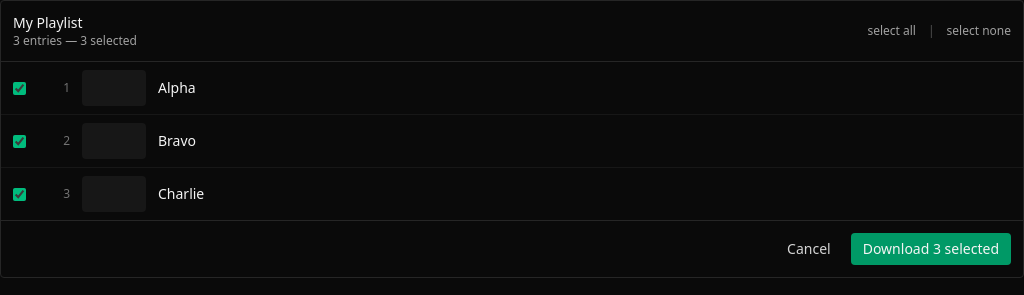
Test case: PreviewPanel › 'select none' disables the submit and 'select all' re-enables it
The width and height of the screenshot is (1024, 295).
What coordinates should you click on to do the following:
click the button "select none"
I would click on:
 (979, 31)
Its box is [946, 23, 1011, 39].
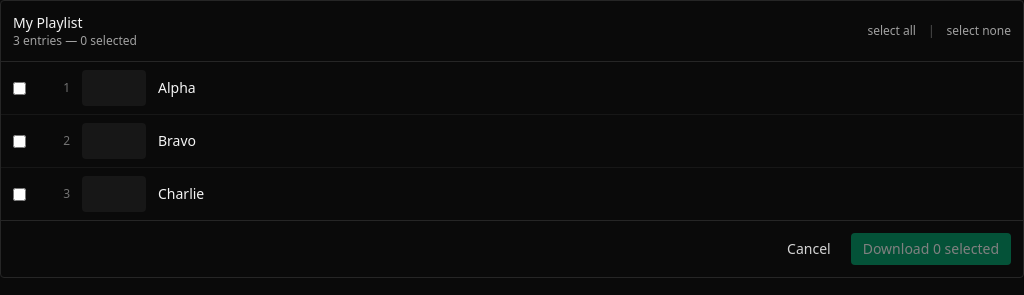
expect the button "Download 0 selected" is disabled: met, box [851, 233, 1011, 265]
What coordinates should you click on to do the following:
click the button "select all"
I would click on:
 (892, 31)
Its box is [867, 23, 916, 39].
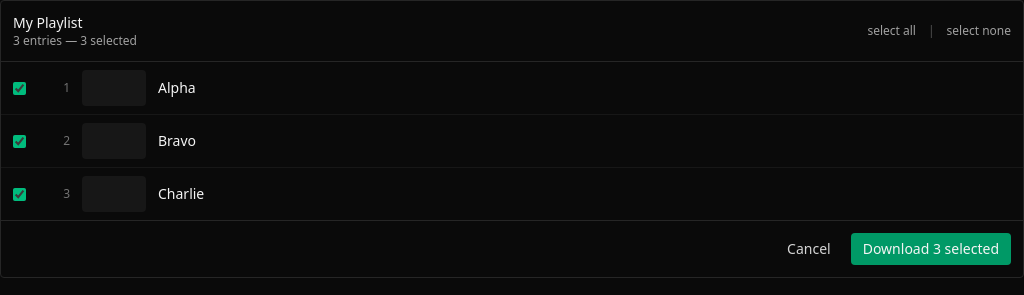
expect the button "Download 3 selected" is enabled: met, box [851, 233, 1011, 265]
